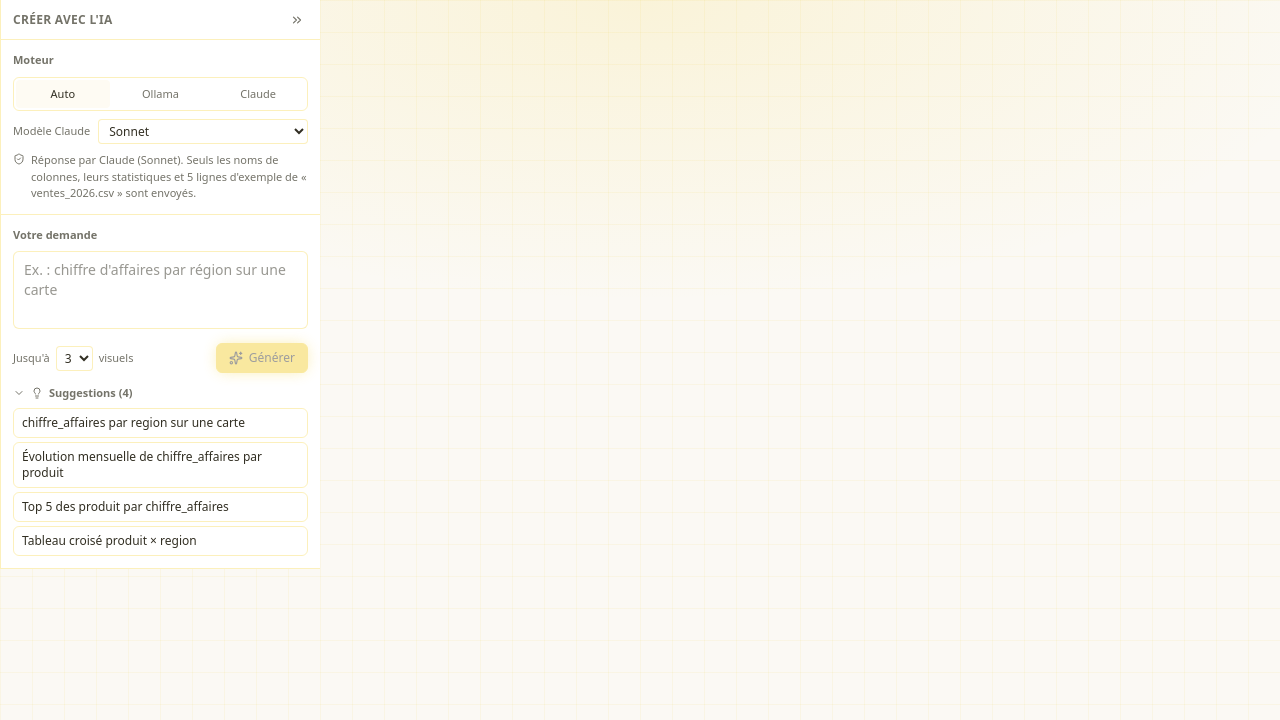
it: volet « Créer avec l'IA » › un visuel devenu invalide (colonne supprimée) n'est pas ajouté et la raison est affichée
This screenshot has width=1280, height=720.
Step 1. Type "Top produits" into the text box named "Décrivez le visuel à créer" → (160,290), box [13,251,308,329]
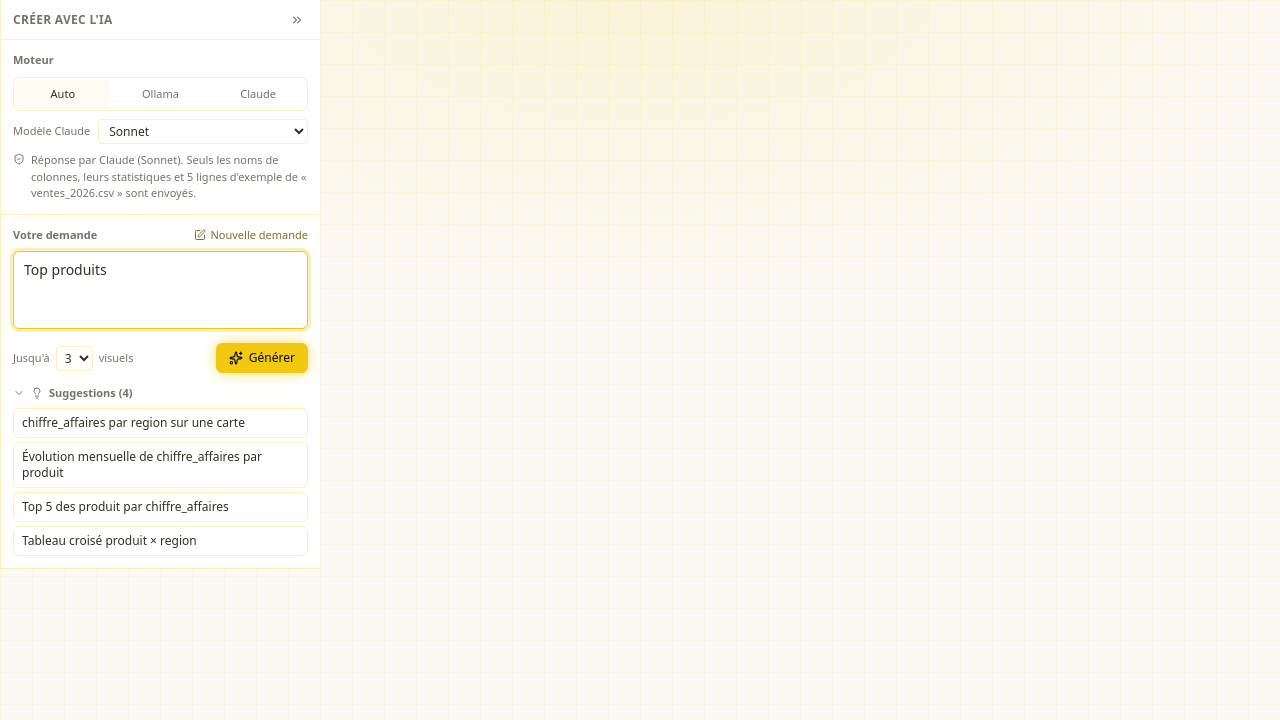
Step 2. Click the button "Générer" → (262,358), box [216,343,308,373]
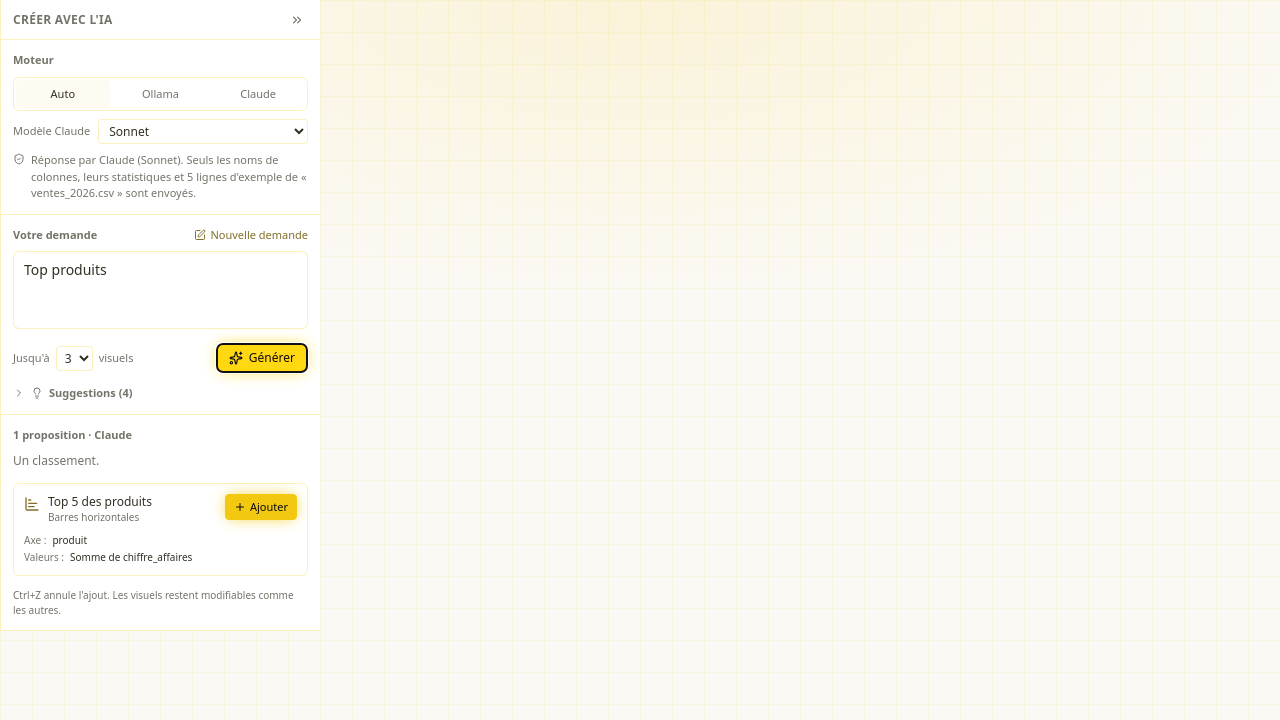
Step 3. Click the button with aria-label "Ajouter Top 5 des produits" → (261,507), box [225,494,297,520]
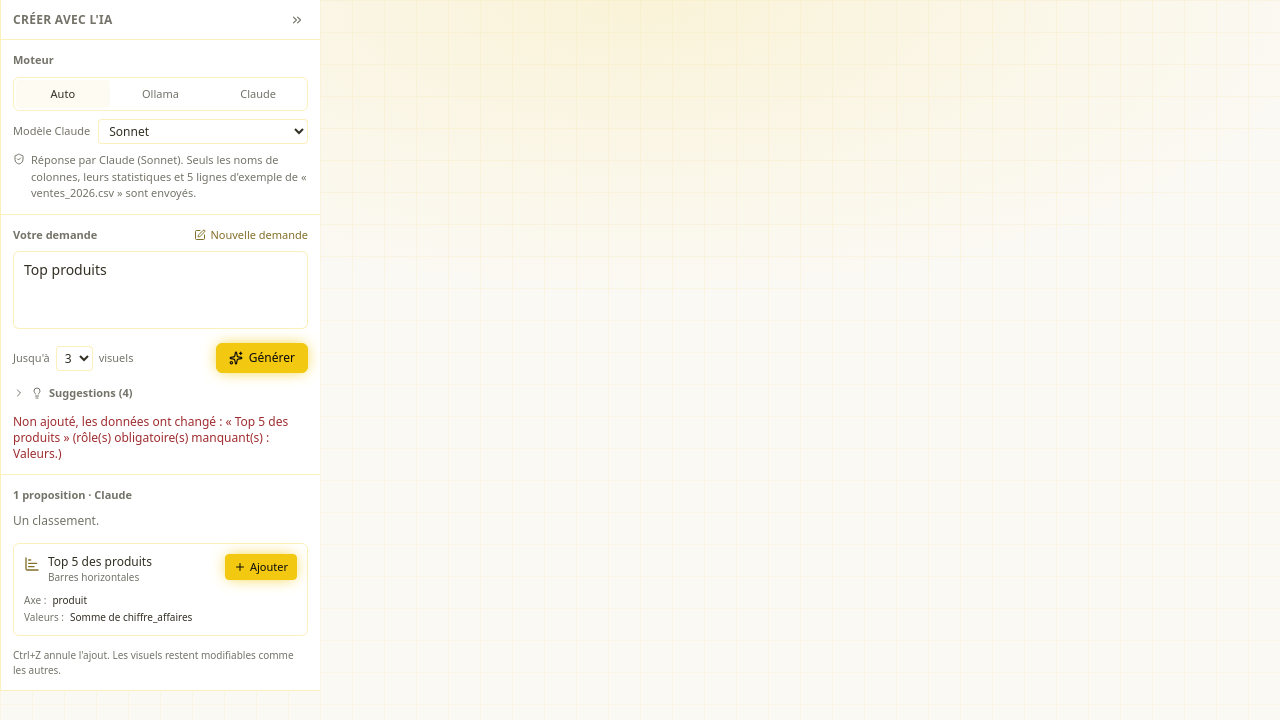
Now the message shows "manquant(s) : Valeurs", box [13,412,288,462]
